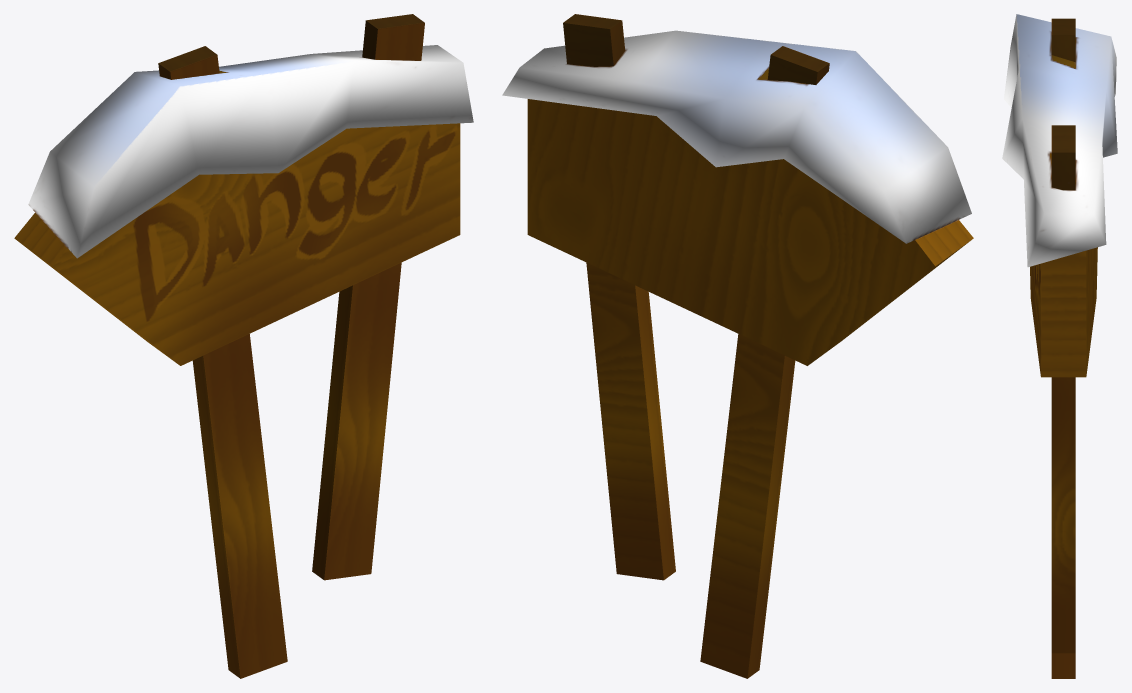
The model's file is Left.fbx.
The picture shows the model from 3 angles, left to right: view 1: azimuth 30°, elevation 25°; view 2: azimuth 150°, elevation 25°; view 3: azimuth 270°, elevation 25°; orthographic projection. The views are drawn at different scales.
Visible parts, largest first — view 1: Left; view 2: Left; view 3: Left.
Part boxes in pixels (bbox=[...]): Left: bbox=[14, 14, 473, 678]; Left: bbox=[502, 14, 973, 678]; Left: bbox=[1002, 14, 1117, 678].
Bounding box in the file's own units: 2.47 × 3.45 × 0.5874.
Materials: 1 (1 with a texture image).
